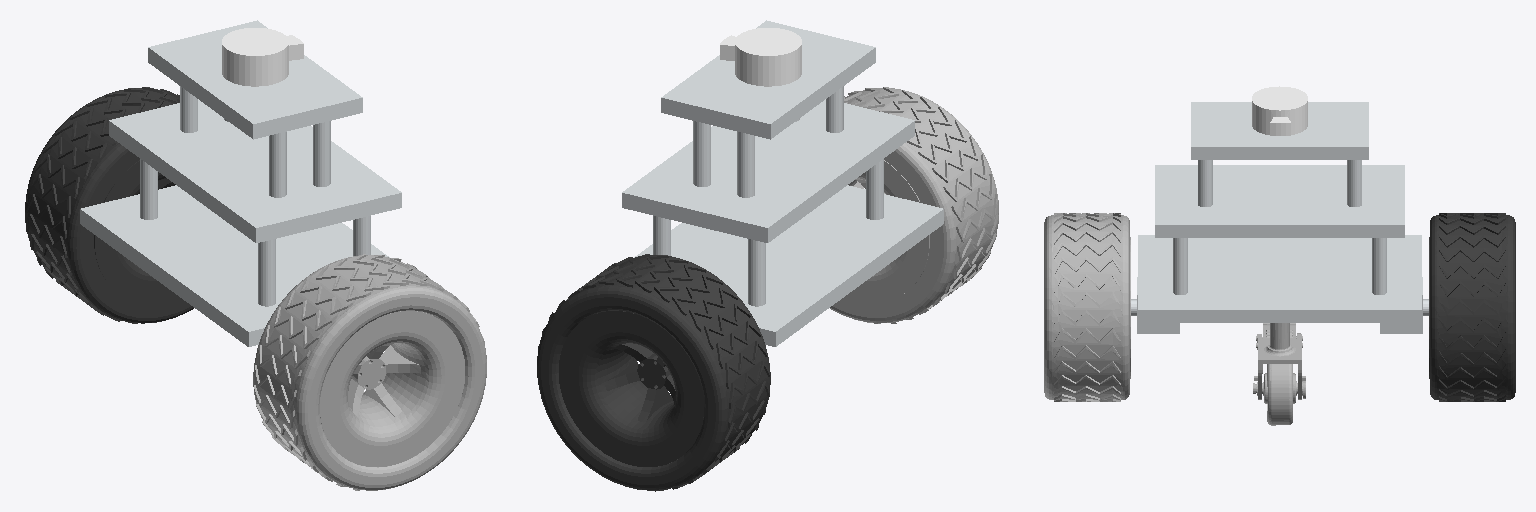
robot.urdf — two_wheeler_robot:
<?xml version="1.0" encoding="utf-8"?>
<!-- This URDF was automatically created by SolidWorks to URDF Exporter! Originally created by [author] ([email redacted]) 
     Commit Version: 1.6.0-1-g15f4949  Build Version: 1.6.7594.29634
     For more information, please see http://wiki.ros.org/sw_urdf_exporter -->
<robot
  name="two_wheeler_robot">
  <link
    name="base_link">
    <inertial>
      <origin
        xyz="-1.4387E-05 2.7756E-17 0.060052"
        rpy="0 0 0" />
      <mass
        value="12.812" />
      <inertia
        ixx="0.12262"
        ixy="-6.9802E-19"
        ixz="-7.5972E-06"
        iyy="0.045702"
        iyz="-1.5587E-18"
        izz="0.16644" />
    </inertial>
    <visual>
      <origin
        xyz="0 0 0"
        rpy="0 0 0" />
      <geometry>
        <mesh
          filename="package://two_wheeler_robot/meshes/base_link.STL" />
      </geometry>
      <material
        name="">
        <color
          rgba="0.89804 0.91765 0.92941 1" />
      </material>
    </visual>
    <collision>
      <origin
        xyz="0 0 0"
        rpy="0 0 0" />
      <geometry>
        <mesh
          filename="package://two_wheeler_robot/meshes/base_link.STL" />
      </geometry>
    </collision>
  </link>
  <link
    name="lw_Link">
    <inertial>
      <origin
        xyz="-2.64312334219419E-06 7.78816865571602E-07 -0.00718689844166315"
        rpy="0 0 0" />
      <mass
        value="4.80902408661788" />
      <inertia
        ixx="0.0226570906897744"
        ixy="1.41302617134111E-09"
        ixz="-9.86413372414412E-08"
        iyy="0.0226570972336729"
        iyz="2.91991436564954E-08"
        izz="0.0333153287039379" />
    </inertial>
    <visual>
      <origin
        xyz="0 0 0"
        rpy="0 0 0" />
      <geometry>
        <mesh
          filename="package://two_wheeler_robot/meshes/lw_Link.STL" />
      </geometry>
      <material
        name="">
        <color
          rgba="0.298039215686275 0.298039215686275 0.298039215686275 1" />
      </material>
    </visual>
    <collision>
      <origin
        xyz="0 0 0"
        rpy="0 0 0" />
      <geometry>
        <mesh
          filename="package://two_wheeler_robot/meshes/lw_Link.STL" />
      </geometry>
    </collision>
  </link>
  <joint
    name="lw_joint"
    type="continuous">
    <origin
      xyz="0.00080677 0.27524 -0.054"
      rpy="-1.5708 0 0" />
    <parent
      link="base_link" />
    <child
      link="lw_Link" />
    <axis
      xyz="0 0 -1" />
  </joint>
  <link
    name="rw_Link">
    <inertial>
      <origin
        xyz="2.73742974801761E-06 -3.1485723017699E-07 0.00718689844166254"
        rpy="0 0 0" />
      <mass
        value="4.80902408661787" />
      <inertia
        ixx="0.0226570906714005"
        ixy="1.36969651064758E-09"
        ixz="-1.02213050044767E-07"
        iyy="0.0226570972520468"
        iyz="1.16273729941615E-08"
        izz="0.0333153287039378" />
    </inertial>
    <visual>
      <origin
        xyz="0 0 0"
        rpy="0 0 0" />
      <geometry>
        <mesh
          filename="package://two_wheeler_robot/meshes/rw_Link.STL" />
      </geometry>
      <material
        name="">
        <color
          rgba="0.752941176470588 0.752941176470588 0.752941176470588 1" />
      </material>
    </visual>
    <collision>
      <origin
        xyz="0 0 0"
        rpy="0 0 0" />
      <geometry>
        <mesh
          filename="package://two_wheeler_robot/meshes/rw_Link.STL" />
      </geometry>
    </collision>
  </link>
  <joint
    name="rw_joint"
    type="continuous">
    <origin
      xyz="0.00080677 -0.27524 -0.054"
      rpy="-1.5708 0 0" />
    <parent
      link="base_link" />
    <child
      link="rw_Link" />
    <axis
      xyz="0 0 -1" />
  </joint>
  <link
    name="cws_Link">
    <inertial>
      <origin
        xyz="-0.00395820211463623 -0.000133400315545845 -0.0410941975532463"
        rpy="0 0 0" />
      <mass
        value="1.58598358349205" />
      <inertia
        ixx="0.00151280401960344"
        ixy="-7.08716332389997E-06"
        ixz="-1.81222022003603E-05"
        iyy="0.00209846429269961"
        iyz="-6.72958151264351E-08"
        izz="0.00130043985745694" />
    </inertial>
    <visual>
      <origin
        xyz="0 0 0"
        rpy="0 0 0" />
      <geometry>
        <mesh
          filename="package://two_wheeler_robot/meshes/cws_Link.STL" />
      </geometry>
      <material
        name="">
        <color
          rgba="0.752941176470588 0.752941176470588 0.752941176470588 1" />
      </material>
    </visual>
    <collision>
      <origin
        xyz="0 0 0"
        rpy="0 0 0" />
      <geometry>
        <mesh
          filename="package://two_wheeler_robot/meshes/cws_Link.STL" />
      </geometry>
    </collision>
  </link>
  <joint
    name="cws_joint"
    type="continuous">
    <origin
      xyz="0.10215 0 -0.072"
      rpy="0 0 0" />
    <parent
      link="base_link" />
    <child
      link="cws_Link" />
    <axis
      xyz="0 0 1" />
  </joint>
  <link
    name="lidar_Link">
    <inertial>
      <origin
        xyz="0 0 0"
        rpy="0 0 0" />
      <mass
        value="0" />
      <inertia
        ixx="0"
        ixy="0"
        ixz="0"
        iyy="0"
        iyz="0"
        izz="0" />
    </inertial>
    <visual>
      <origin
        xyz="0 0 0"
        rpy="0 0 0" />
      <geometry>
        <mesh
          filename="package://two_wheeler_robot/meshes/lidar_Link.STL" />
      </geometry>
      <material
        name="">
        <color
          rgba="1 1 1 1" />
      </material>
    </visual>
    <collision>
      <origin
        xyz="0 0 0"
        rpy="0 0 0" />
      <geometry>
        <mesh
          filename="package://two_wheeler_robot/meshes/lidar_Link.STL" />
      </geometry>
    </collision>
  </link>
  <joint
    name="lidar_joint"
    type="revolute">
    <origin
      xyz="0 0 0.23"
      rpy="0 0 0" />
    <parent
      link="base_link" />
    <child
      link="lidar_Link" />
    <axis
      xyz="0 0 -1" />
    <limit
      lower="0"
      upper="0"
      effort="0"
      velocity="0" />
  </joint>
</robot>

--- Render facts (derived) ---
3 views of the same robot in one strip: view 1: azimuth 30°, elevation 25°; view 2: azimuth 150°, elevation 25°; view 3: azimuth 270°, elevation 25° (orthographic).
Model two_wheeler_robot with 5 links and 4 joints (1 revolute, 3 continuous), rooted at base_link, posed every joint at zero.
Visible links, largest first — view 1: base_link, rw_Link, lw_Link, lidar_Link; view 2: base_link, lw_Link, rw_Link, lidar_Link; view 3: base_link, lw_Link, rw_Link, cws_Link, lidar_Link.
Boxes of the visible links, x1,y1,x2,y2 form: base_link: (80, 20, 401, 346); rw_Link: (253, 254, 486, 490); lw_Link: (25, 87, 193, 323); lidar_Link: (222, 28, 303, 86); base_link: (622, 20, 943, 346); lw_Link: (537, 254, 770, 491); rw_Link: (830, 87, 998, 323); lidar_Link: (720, 28, 801, 86); base_link: (1131, 102, 1428, 333); lw_Link: (1429, 213, 1515, 401); rw_Link: (1044, 213, 1130, 401); cws_Link: (1253, 323, 1305, 425); lidar_Link: (1252, 86, 1307, 135).
Bounding box of the posed robot: 0.2865 × 0.6619 × 0.457 m (x, y, z).
5 mesh visuals loaded from 5 distinct referenced files (5 binary STL).